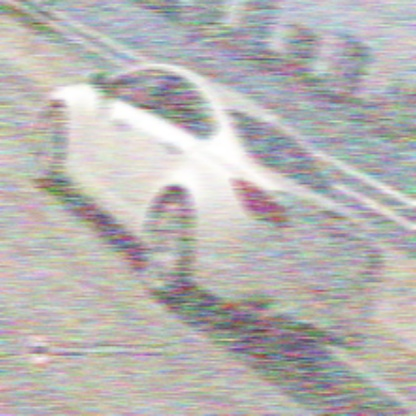Vehicle: (31, 61, 384, 361)
